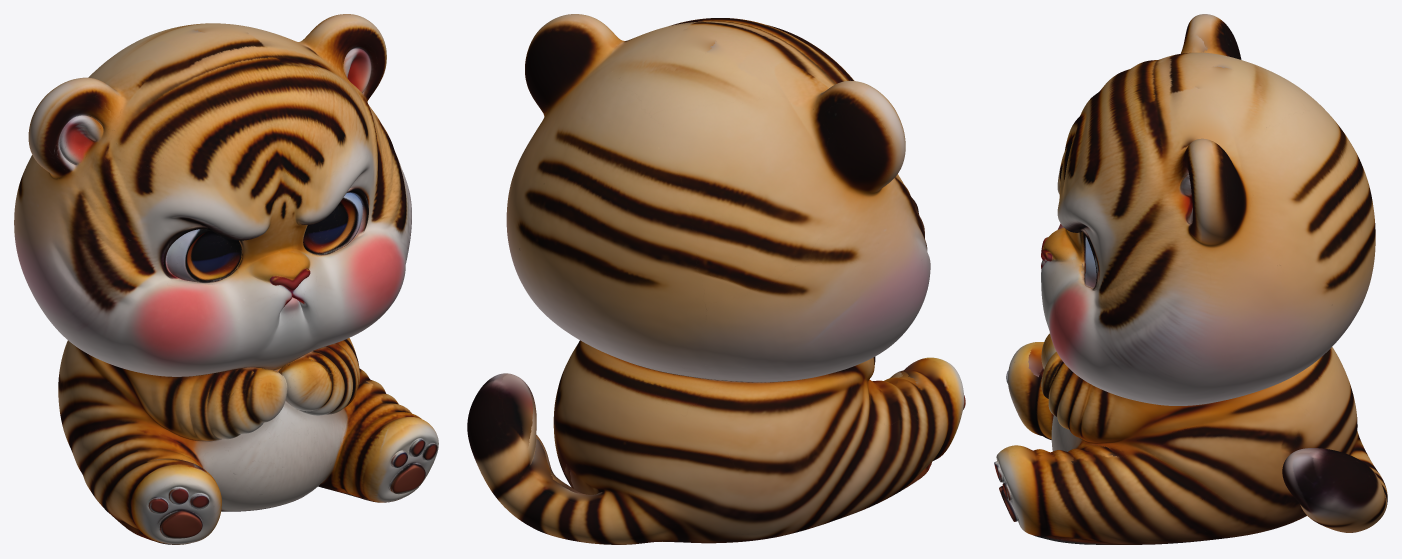
Rendered from TIGRECITO.glb.
The picture shows the model from 3 angles, left to right: view 1: azimuth 30°, elevation 25°; view 2: azimuth 150°, elevation 25°; view 3: azimuth 270°, elevation 25°; orthographic projection. The views are drawn at different scales.
Parts seen in each view (by area): view 1: texture_pbr_v128; view 2: texture_pbr_v128; view 3: texture_pbr_v128.
Part boxes in pixels (box(x1,y1,x2,y2)): texture_pbr_v128: box(14, 14, 438, 544); texture_pbr_v128: box(467, 14, 965, 544); texture_pbr_v128: box(994, 14, 1387, 544).
Bounding box in the file's own units: 0.7931 × 0.8883 × 0.7625.
1 material, 1 textured.
